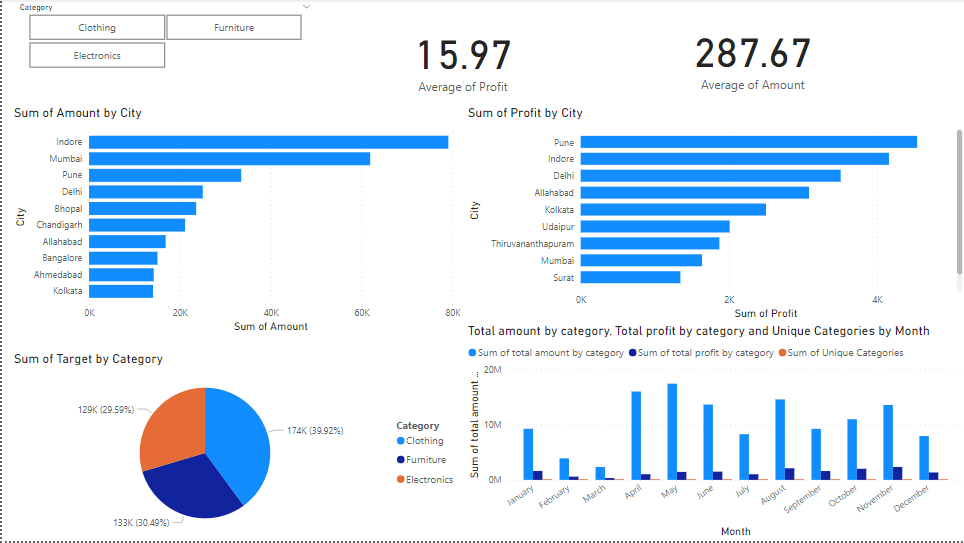

What the dashboard file says about the page in this screenshot:
{"tool":"powerbi","page":{"name":"City ","canvas":[1280,720],"ordinal":1},"visuals":[{"type":"slicer","fields":{"Values":["Order Details.Category"]},"box":[10.2,0,411.2,98],"z":0},{"type":"card","fields":{"Values":["Avg(Order Details.Profit)"]},"box":[433.2,0,358.5,155.1],"z":1000},{"type":"card","fields":{"Values":["Avg(Order Details.Amount)"]},"box":[791.7,0,411.2,150.7],"z":2000},{"type":"clusteredBarChart","fields":{"Category":["List of Orders.City"],"Y":["Sum(Order Details.Amount)"]},"box":[10.2,140.5,602.9,307.3],"z":3000},{"type":"clusteredBarChart","fields":{"Y":["Sum(Order Details.Profit)"],"Category":["List of Orders.City"]},"box":[613.2,140.5,667.3,289.8],"z":4000},{"type":"pieChart","fields":{"Category":["Sales target.Category"],"Y":["Sum(Sales target.Target)"]},"box":[10,468,603,252],"z":5000},{"type":"lineClusteredColumnComboChart","title":"Total amount by category, Total profit by category and Unique Categories by Month","fields":{"Category":["Order Details.Order Date.Variation.Date Hierarchy.Month"],"Y":["Sum(Order Details.total amount by category)","Sum(Order Details.total profit by category)","Sum(Order Details.Unique Categories)"]},"box":[613.2,430.2,667.3,289.8],"z":6000}]}

Visuals, with their boxes in screenshot pixels (x1, y1, x2, y2), scaled from the page's 1280x720 canvas onto the 964x543 screenshot:
slicer - Order Details.Category: 8:0:317:74
card - Avg(Order Details.Profit): 326:0:596:117
card - Avg(Order Details.Amount): 596:0:906:114
clusteredBarChart - List of Orders.City x Sum(Order Details.Amount): 8:106:462:338
clusteredBarChart - Sum(Order Details.Profit) x List of Orders.City: 462:106:963:325
pieChart - Sales target.Category x Sum(Sales target.Target): 8:353:462:542
"Total amount by category, Total profit by category and Unique Categories by Month" lineClusteredColumnComboChart: 462:324:963:542
